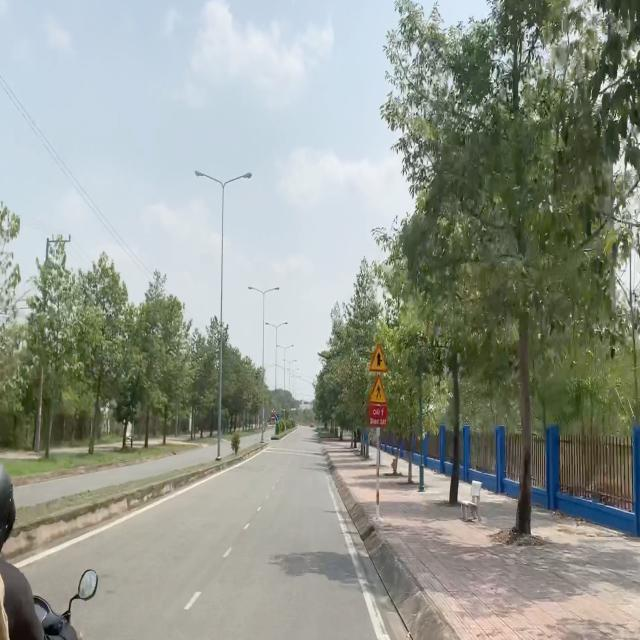Giao voi duong khong uu tien: (368, 344, 388, 373)
Nguoi di bo cat ngang: (369, 373, 388, 405)
